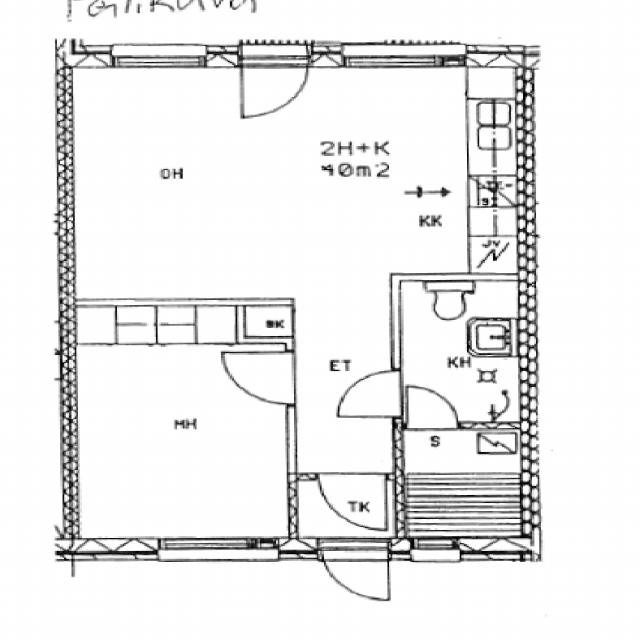door: (322, 538, 389, 610), (243, 44, 306, 116), (318, 472, 386, 532), (215, 353, 293, 404), (330, 371, 401, 416), (408, 386, 457, 430)
